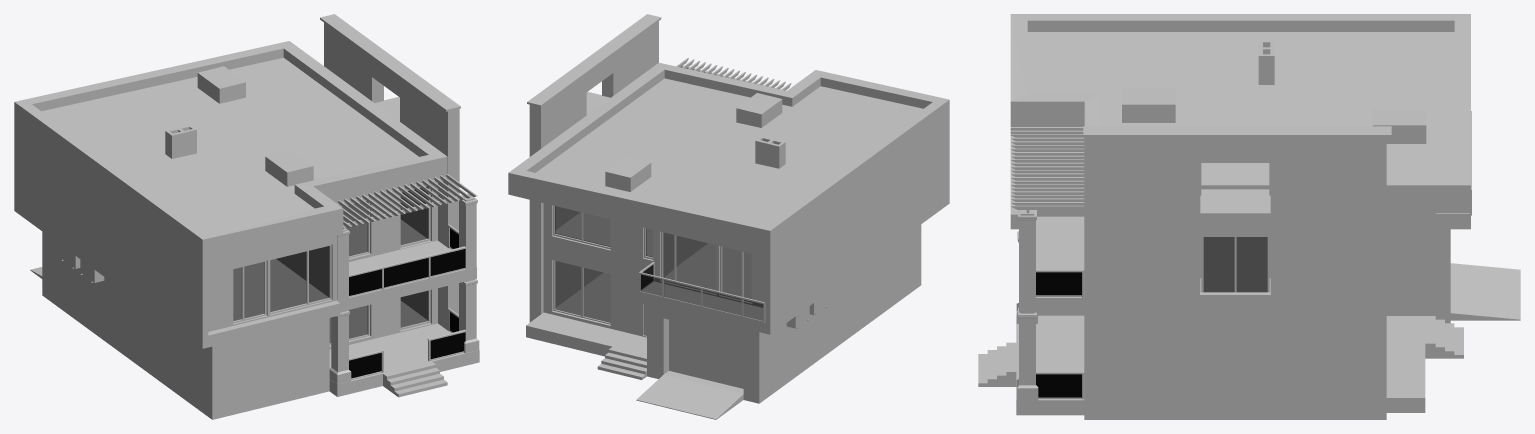
File: House_3.FBX
3 views of the same model, side by side, from view 1: azimuth 30°, elevation 25°; view 2: azimuth 150°, elevation 25°; view 3: azimuth 270°, elevation 25° (orthographic). The views are drawn at different scales.
Visible parts, largest first — view 1: House_3; view 2: House_3; view 3: House_3.
Boxes of the visible parts, x1=… form: House_3: x1=14, y1=14, x2=479, y2=419; House_3: x1=508, y1=14, x2=949, y2=419; House_3: x1=978, y1=14, x2=1520, y2=419.
Bounding box in the file's own units: 1458 × 1773 × 1030.
